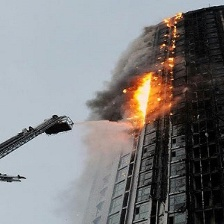fire: (162, 6, 184, 107), (133, 71, 157, 120)
smoke: (81, 72, 133, 173), (111, 17, 154, 70)
